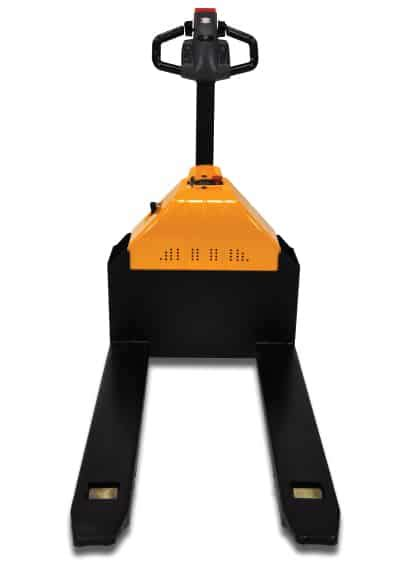Pallet Jack: (69, 6, 342, 549)
